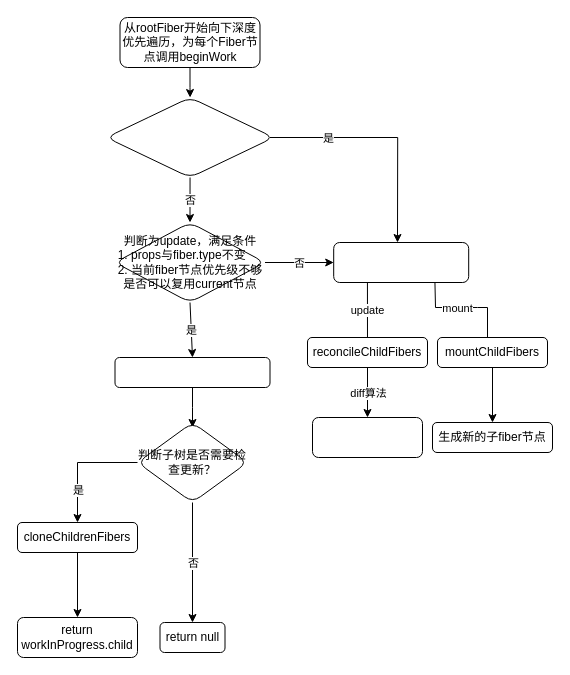
Image size: 570x675. Some labels were removed from this diagram. Here are the shapes that lost their labels. From the top down, the centre of each, then its label:
(189,137): 根据currentFiber树是否为null判断是否为mount？
(401,262): 根据workProgress.tag进行区别对待
(192,372): bailoutAlreadyFinishedWork
(367,437): 生成带effectTag的新的子fiber节点
